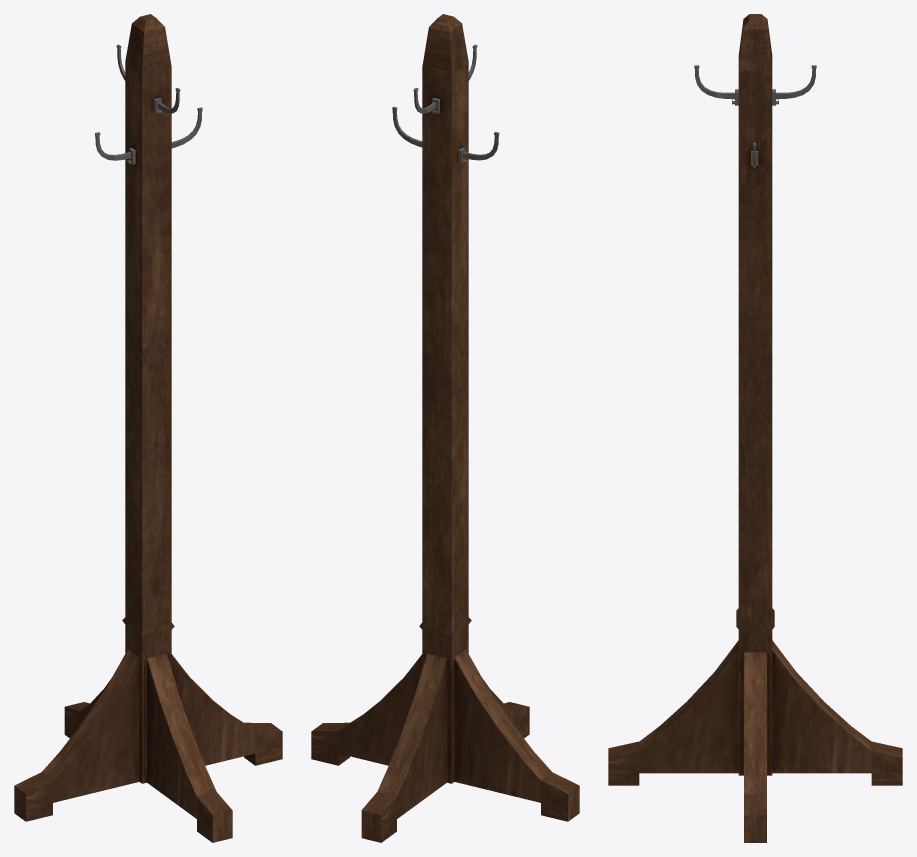
File: coat-rack.glb
3 views of the same model, side by side, from view 1: azimuth 30°, elevation 25°; view 2: azimuth 150°, elevation 25°; view 3: azimuth 270°, elevation 25° (orthographic).
Parts seen in each view (by area): view 1: Object_2; view 2: Object_2; view 3: Object_2.
Part boxes in pixels (x1,y1,x2,y2): Object_2: (14, 14, 282, 842); Object_2: (311, 14, 579, 842); Object_2: (608, 14, 902, 842).
Bounding box in the file's own units: 0.6286 × 1.8 × 0.6286.
Materials: 1 (1 with a texture image).
